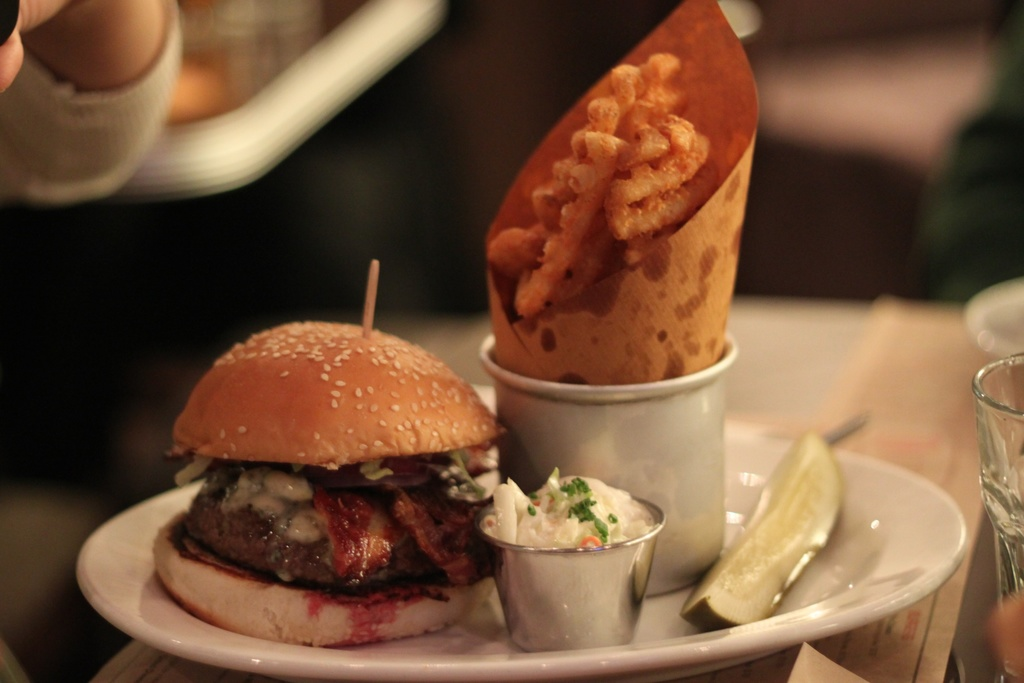Hamburger: (147, 319, 513, 647)
